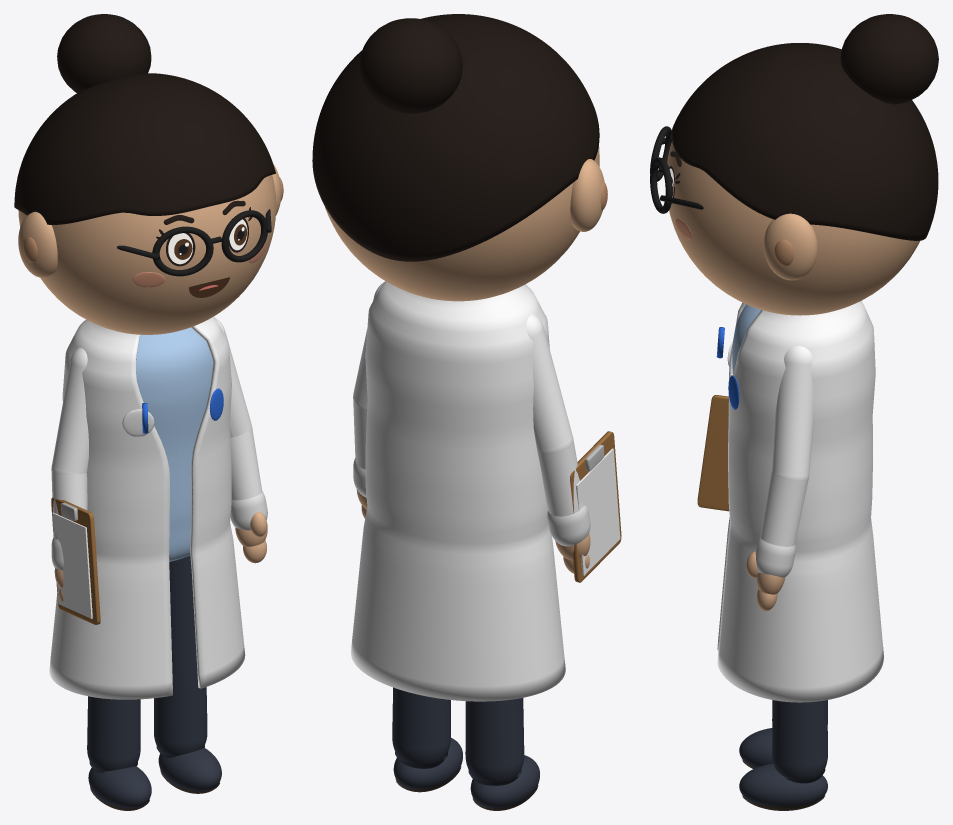
File: wetenschapper.glb
3 views of the same model, side by side, from view 1: azimuth 30°, elevation 25°; view 2: azimuth 150°, elevation 25°; view 3: azimuth 270°, elevation 25° (orthographic). The views are drawn at different scales.
Parts seen in each view (by area): view 1: wetenschapper_labjas, wetenschapper_haar, wetenschapper_hoofd, wetenschapper_romp, wetenschapper_been_L, wetenschapper_knot, wetenschapper_been_R, wetenschapper_bovenarm_R, wetenschapper_klembord_papier, wetenschapper_schoen_R, wetenschapper_schoen_L, wetenschapper_onderarm_L (+8 smaller); view 2: wetenschapper_labjas, wetenschapper_haar, wetenschapper_hoofd, wetenschapper_knot, wetenschapper_been_R, wetenschapper_been_L, wetenschapper_bovenarm_R, wetenschapper_klembord_papier, wetenschapper_onderarm_R, wetenschapper_oor_R, wetenschapper_schoen_R, wetenschapper_schoen_L (+4 smaller); view 3: wetenschapper_labjas, wetenschapper_haar, wetenschapper_hoofd, wetenschapper_knot, wetenschapper_bovenarm_L, wetenschapper_been_L, wetenschapper_klembord, wetenschapper_schoen_L, wetenschapper_onderarm_L, wetenschapper_oor_L, wetenschapper_manchet_L, wetenschapper_schoen_R (+3 smaller).
Boxes of the visible parts, box(x1,y1,x2,y2) form: wetenschapper_labjas: box(49, 316, 245, 699); wetenschapper_haar: box(14, 73, 275, 224); wetenschapper_hoofd: box(18, 175, 276, 334); wetenschapper_romp: box(136, 327, 213, 561); wetenschapper_been_L: box(154, 555, 207, 756); wetenschapper_knot: box(57, 14, 151, 92); wetenschapper_been_R: box(87, 696, 140, 771); wetenschapper_bovenarm_R: box(52, 348, 88, 474); wetenschapper_klembord_papier: box(52, 512, 92, 618); wetenschapper_schoen_R: box(88, 766, 151, 808); wetenschapper_schoen_L: box(158, 747, 221, 791); wetenschapper_onderarm_L: box(230, 426, 262, 500); wetenschapper_labjas: box(350, 281, 565, 701); wetenschapper_haar: box(312, 14, 599, 261); wetenschapper_hoofd: box(324, 145, 599, 301); wetenschapper_knot: box(359, 18, 462, 113); wetenschapper_been_R: box(465, 698, 524, 781); wetenschapper_been_L: box(392, 687, 450, 764); wetenschapper_bovenarm_R: box(526, 314, 572, 453); wetenschapper_klembord_papier: box(576, 448, 620, 575); wetenschapper_onderarm_R: box(537, 439, 583, 516); wetenschapper_oor_R: box(570, 159, 604, 231); wetenschapper_schoen_R: box(470, 755, 539, 808); wetenschapper_schoen_L: box(393, 738, 462, 789); wetenschapper_labjas: box(717, 301, 883, 702); wetenschapper_haar: box(671, 43, 938, 240); wetenschapper_hoofd: box(667, 141, 919, 315); wetenschapper_knot: box(840, 14, 938, 104); wetenschapper_bovenarm_L: box(771, 346, 813, 481); wetenschapper_been_L: box(772, 700, 827, 780); wetenschapper_klembord: box(697, 395, 729, 511); wetenschapper_schoen_L: box(739, 763, 827, 806); wetenschapper_onderarm_L: box(760, 471, 808, 546); wetenschapper_oor_L: box(763, 213, 817, 280); wetenschapper_manchet_L: box(755, 536, 795, 577); wetenschapper_schoen_R: box(739, 728, 773, 767).
Bounding box in the file's own units: 0.6749 × 1.86 × 0.6322.
